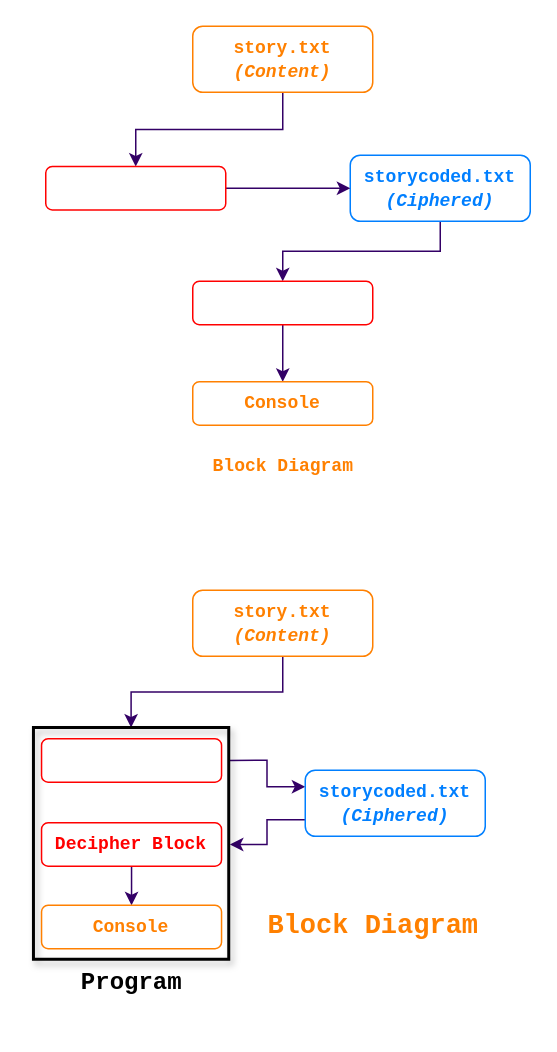
This 557x1052 diagram has some shape labels left out. Here are the shapes that lost their labels. From the top down, the centre of each, then its label:
At (x=135, y=187): "cipher.cpp".
At (x=282, y=302): "decipher.cpp".
At (x=131, y=759): "Cipher Block".
